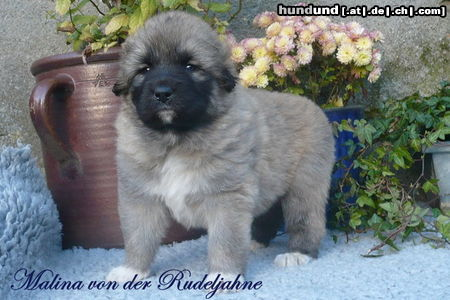cau_ovcharka: (103, 11, 335, 293)
